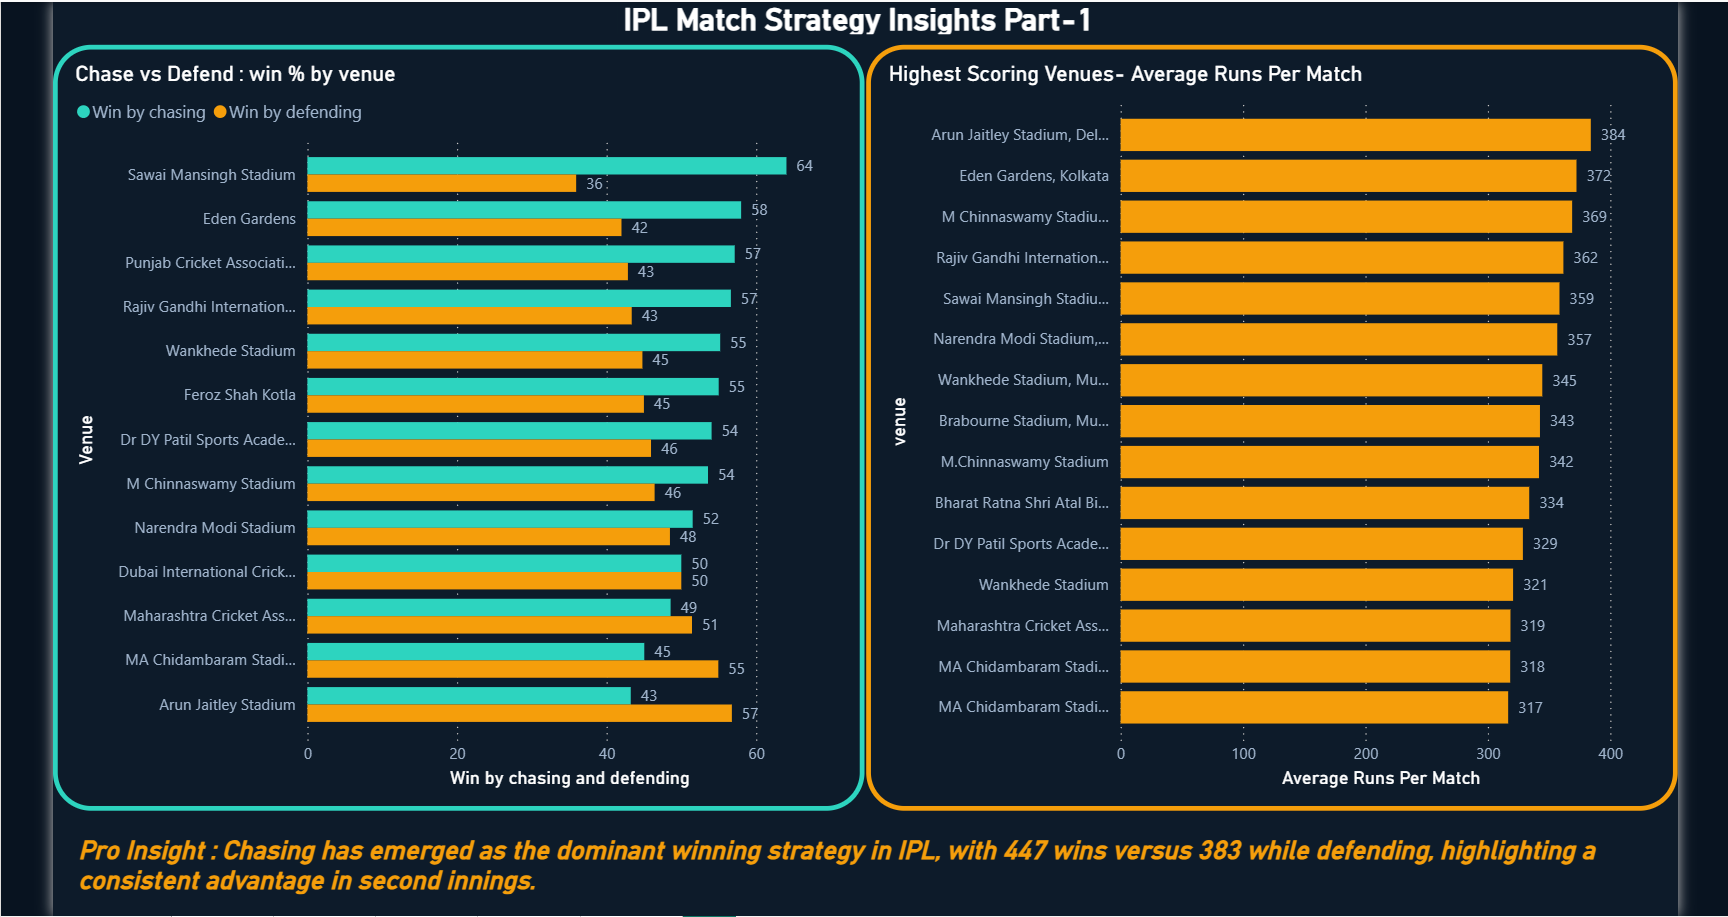

What the dashboard file says about the page in this screenshot:
{"tool":"powerbi","page":{"name":"Page 4","canvas":[1280,720],"ordinal":3},"visuals":[{"type":"clusteredBarChart","title":"Chase vs Defend : win % by venue","fields":{"Category":["Win_percentages_Venue.venue_clean"],"Y":["Sum(Win_percentages_Venue.Chase_Win_%)","Sum(Win_percentages_Venue.Defend_Win_%)"]},"box":[0,33.2,639.2,603.4],"z":0},{"type":"textbox","title":"IPL Match Strategy Insights Part-1","box":[444.9,0,392.5,25.6],"z":2000},{"type":"textbox","title":"Pro Insight : Chasing has emerged as the dominant winning strategy in IPL, with 447 wins versus 383 while defending, highlighting a consistent advantage in second innings.","box":[0,636.6,1279.7,83.1],"z":3000},{"type":"barChart","title":"Highest Scoring Venues- Average Runs Per Match","fields":{"Y":["Sum(highest_scoring_venues.avg_runs_per_match)"],"Category":["highest_scoring_venues.venue"]},"box":[640.5,33.2,639.2,603.4],"z":3001}]}

Visuals, with their boxes on the page's 1280x720 design canvas (x1, y1, x2, y2). These are canvas units, not pixel positions in the 1728x917 screenshot, which may show the page scaled, cropped or inside an application window:
"Chase vs Defend : win % by venue" clusteredBarChart: [left=0, top=33, right=639, bottom=637]
"IPL Match Strategy Insights Part-1" textbox: [left=445, top=0, right=837, bottom=26]
"Pro Insight : Chasing has emerged as the dominant winning strategy in IPL, with 447 wins versus 383 while defending, highlighting a consistent advantage in second innings." textbox: [left=0, top=637, right=1280, bottom=720]
"Highest Scoring Venues- Average Runs Per Match" barChart: [left=640, top=33, right=1280, bottom=637]
